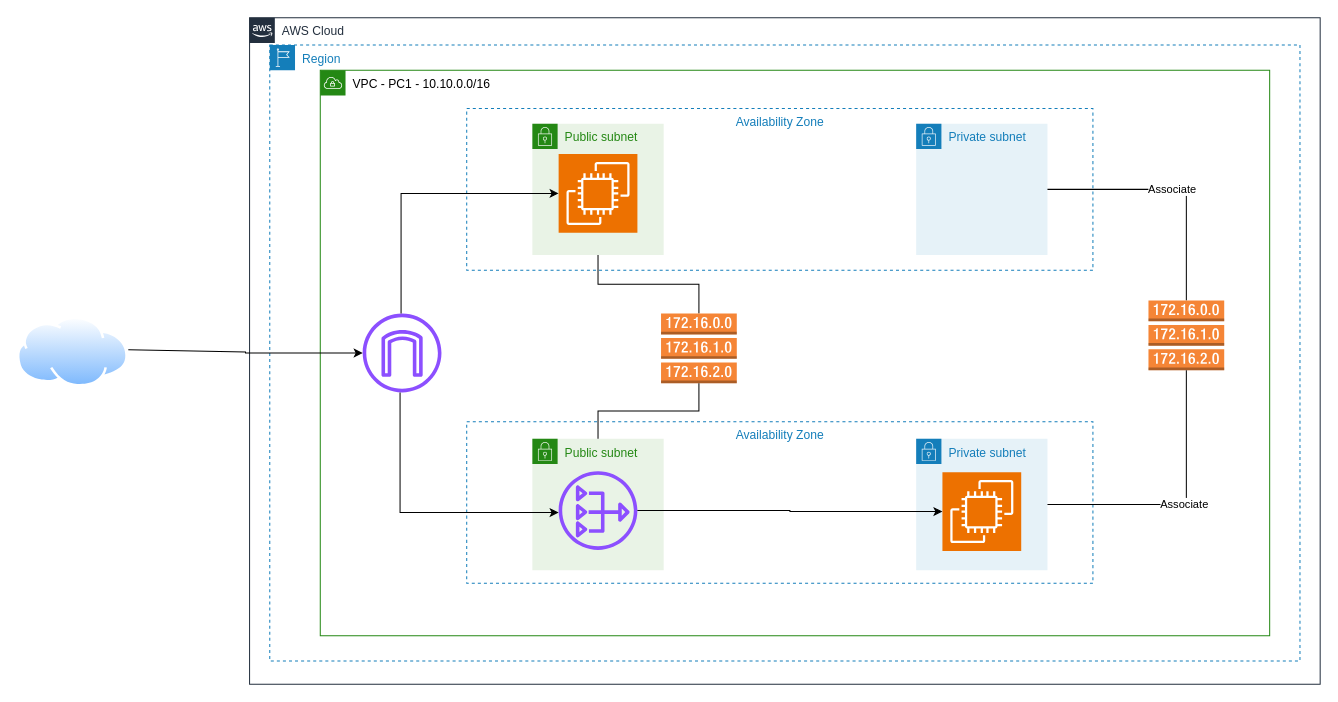
The diagram is 1338 pixels wide and 702 high, and some of its shapes have lost their labels. Each missing label, with the centre of its shape:
"Internet Gateway" goes at point 401,352.
"NAT Gateway" goes at point 597,510.
"Private EC2 Instance" goes at point 981,511.
"Public EC2 Instance" goes at point 597,193.
